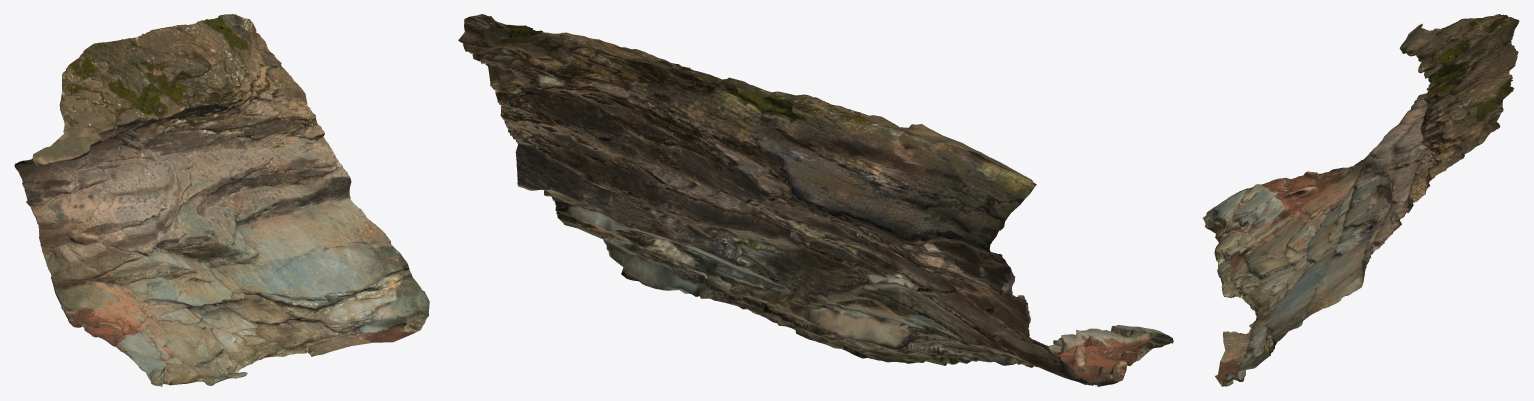
The model's file is ph-rock-face-01.glb.
The picture shows the model from 3 angles, left to right: view 1: azimuth 30°, elevation 25°; view 2: azimuth 150°, elevation 25°; view 3: azimuth 270°, elevation 25°; orthographic projection. The views are drawn at different scales.
Parts seen in each view (by area): view 1: rock_face_01; view 2: rock_face_01; view 3: rock_face_01.
Part boxes in pixels (left/top/right/bottom): rock_face_01: left=14, top=14, right=429, bottom=386; rock_face_01: left=458, top=14, right=1173, bottom=386; rock_face_01: left=1202, top=14, right=1519, bottom=386.
Size of the model in its own units: 9.03 by 6.5 by 6.98.
Materials: 1 (1 with a texture image).
